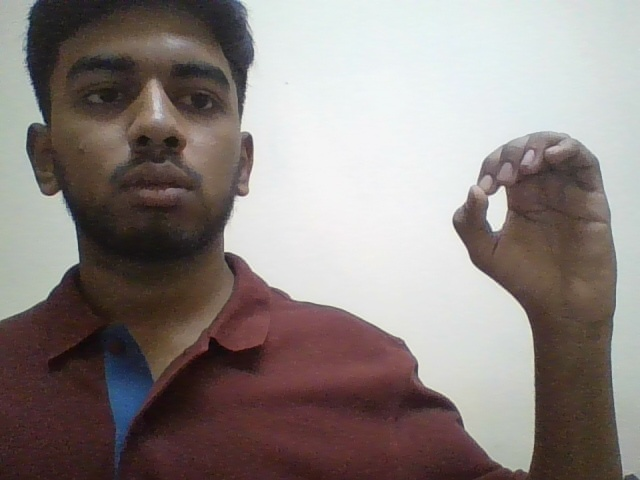O: (442, 92, 640, 334)
